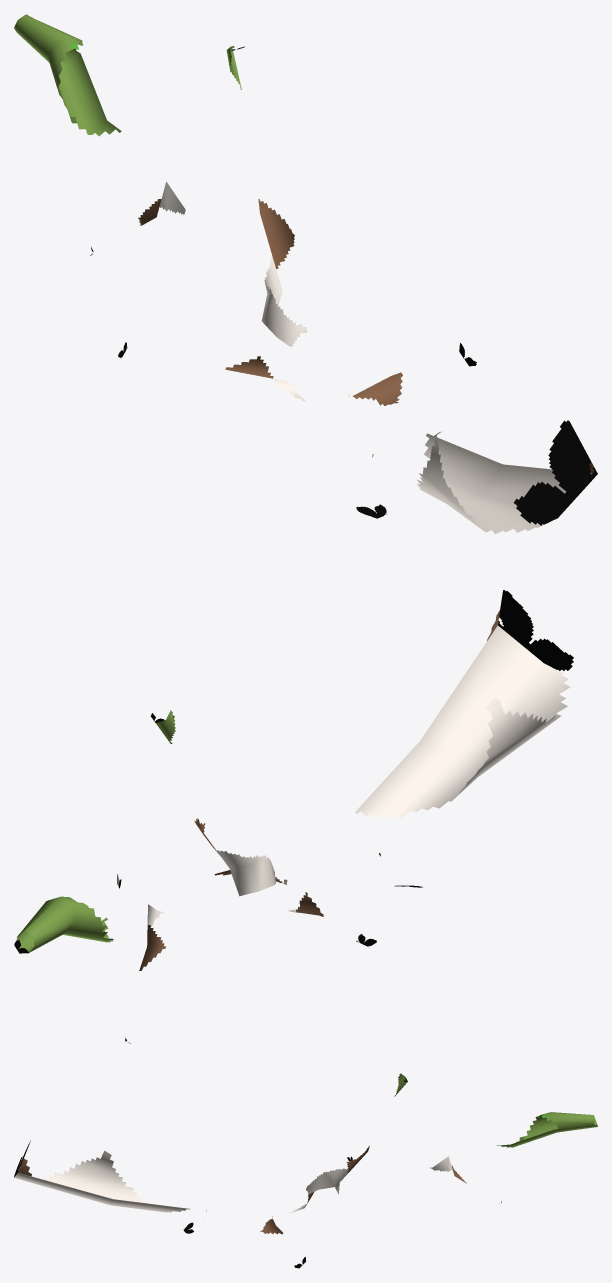
Rendered from Branch_2b.gltf.
3 views of the same model, one above another, from view 1: azimuth 30°, elevation 25°; view 2: azimuth 150°, elevation 25°; view 3: azimuth 270°, elevation 25° (orthographic). The views are drawn at different scales.
Parts seen in each view (by area): view 1: Branch_2b; view 2: Branch_2b; view 3: Branch_2b.
Boxes of the visible parts, x1,y1,x2,y2 form: Branch_2b: (14,14,597,534); Branch_2b: (14,590,573,1043); Branch_2b: (14,1073,597,1268).
Size of the model in its own units: 43.43 by 41.62 by 127.
Materials: 1 (1 with a texture image).
